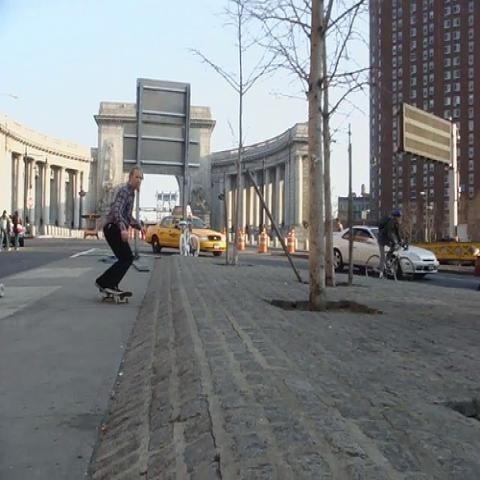car: (332, 225, 441, 276), (144, 217, 228, 259)
